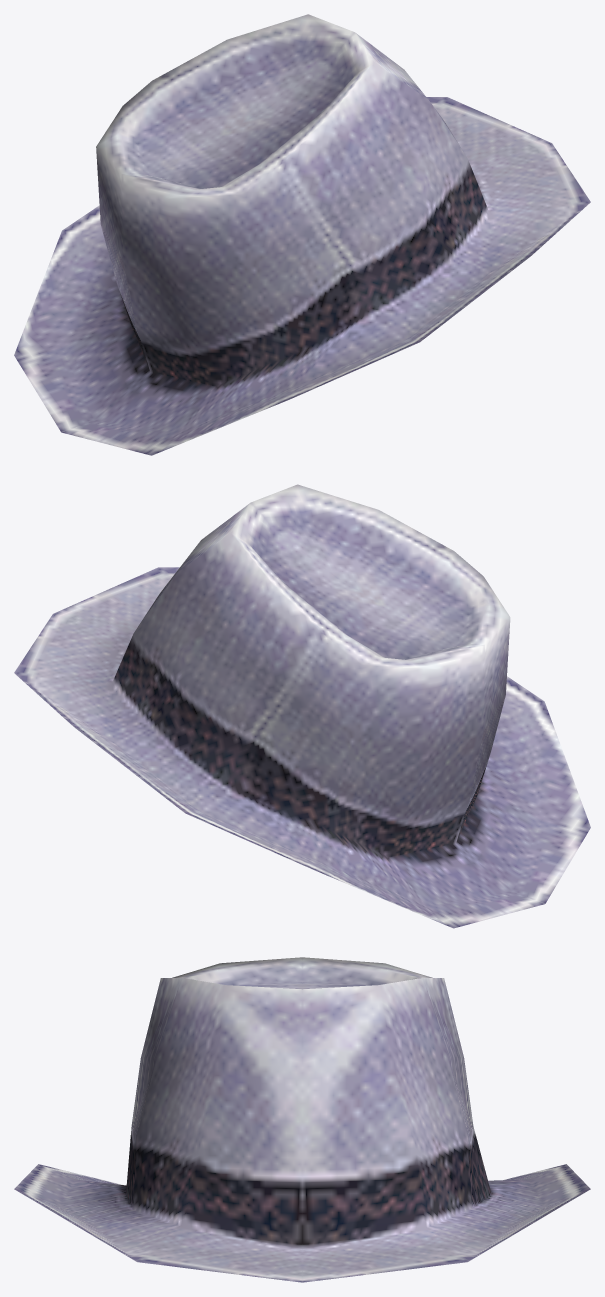
Rendered from hat_0400051.FBX.
3 views of the same model, one above another, from view 1: azimuth 30°, elevation 25°; view 2: azimuth 150°, elevation 25°; view 3: azimuth 270°, elevation 25° (orthographic). The views are drawn at different scales.
Visible parts, largest first — view 1: hat_0400051; view 2: hat_0400051; view 3: hat_0400051.
Boxes of the visible parts, <box> form: hat_0400051: <box>14,14,590,455</box>; hat_0400051: <box>14,484,590,928</box>; hat_0400051: <box>14,957,590,1282</box>.
Bounding box in the file's own units: 43.03 × 27.53 × 38.11.
